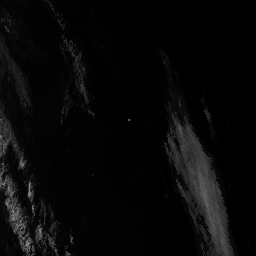Target: (127, 117, 131, 121)
